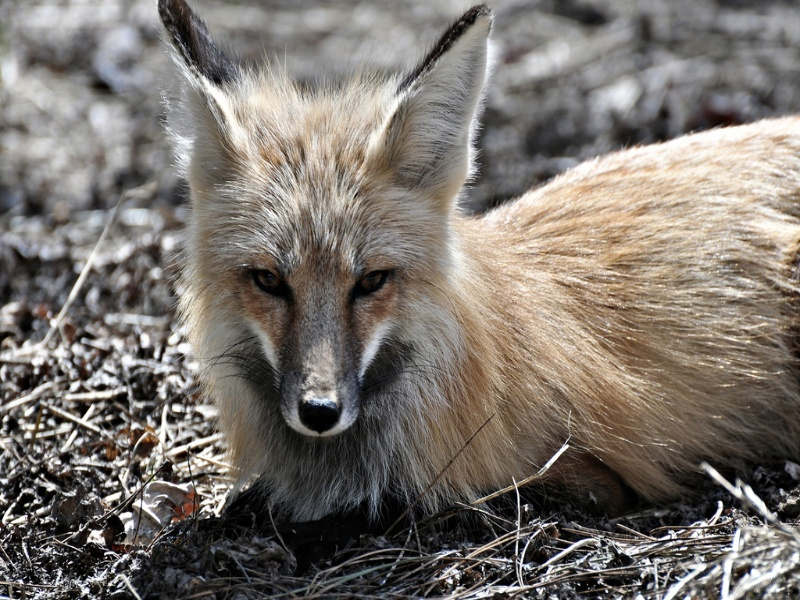fox: (145, 3, 800, 520)
